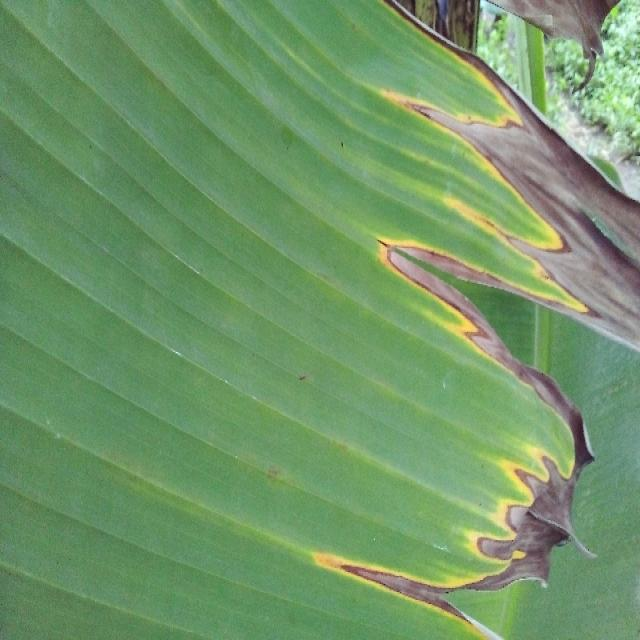Cordana: (152, 0, 576, 640)
